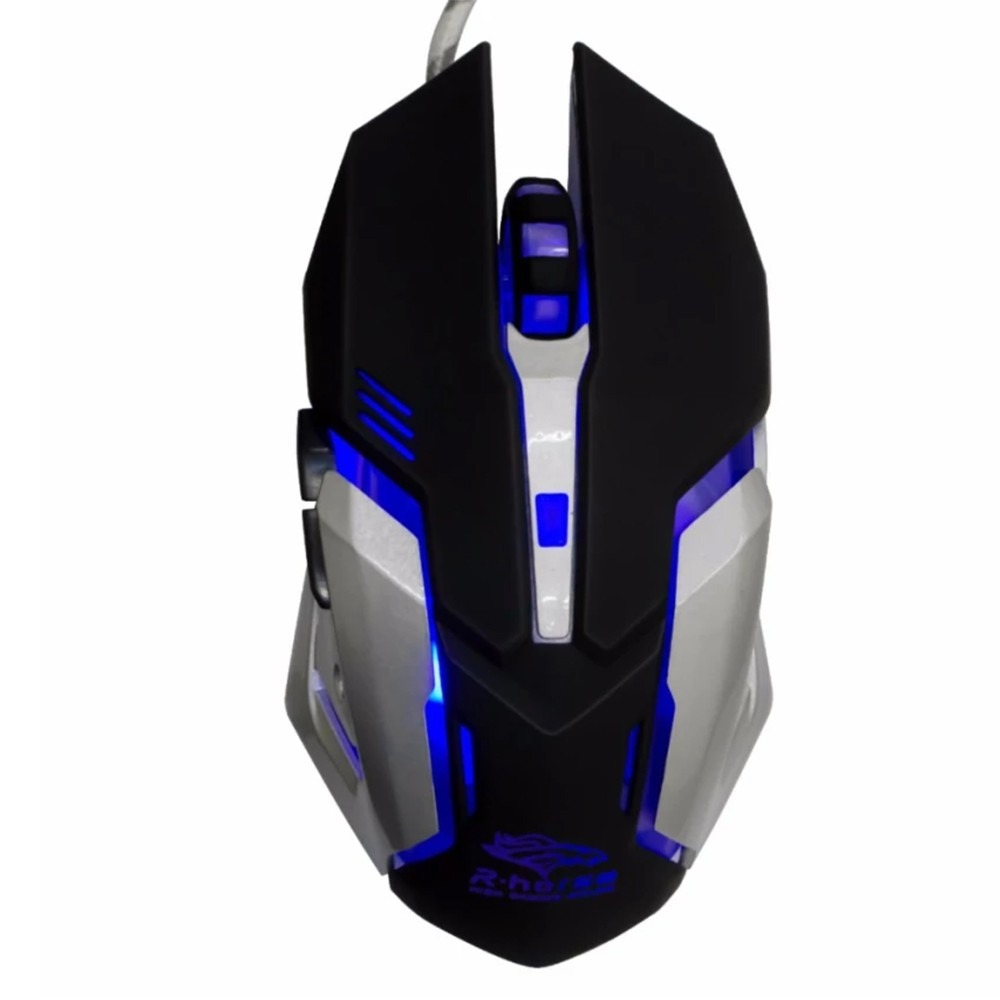mouse: (269, 29, 792, 974)
